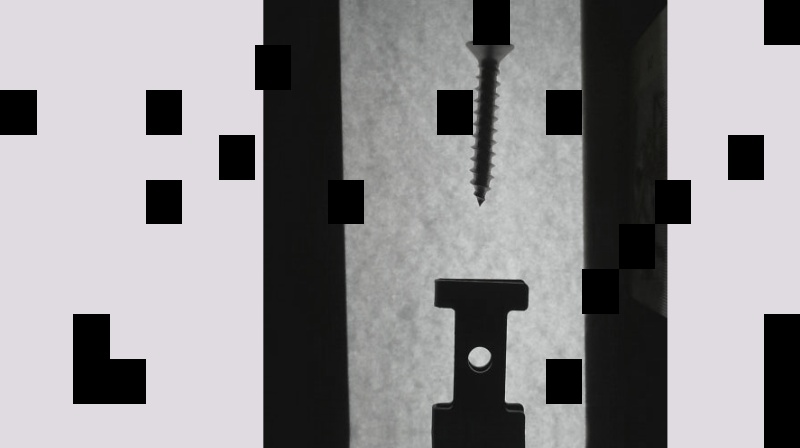O002: (430, 273, 533, 444)
S001: (460, 37, 515, 205)
